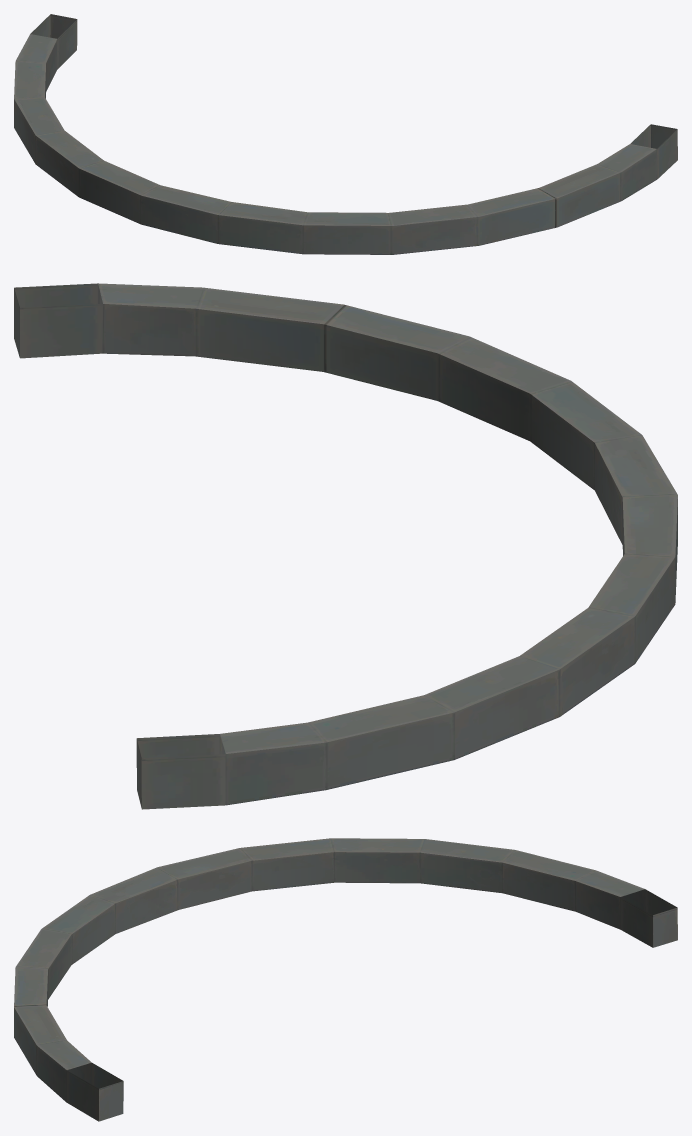
File: Indoor_Mdprops_Church_Squate05_Stairs01_Vo_1489_0.fbx
3 views of the same model, one above another, from view 1: azimuth 30°, elevation 25°; view 2: azimuth 150°, elevation 25°; view 3: azimuth 270°, elevation 25° (orthographic). The views are drawn at different scales.
Parts seen in each view (by area): view 1: Indoor_Mdprops_Church_Squate05_Stairs01_Vo_1489_0; view 2: Indoor_Mdprops_Church_Squate05_Stairs01_Vo_1489_0; view 3: Indoor_Mdprops_Church_Squate05_Stairs01_Vo_1489_0.
Part boxes in pixels (box(x1,y1,x2,y2)): Indoor_Mdprops_Church_Squate05_Stairs01_Vo_1489_0: box(14, 14, 677, 254); Indoor_Mdprops_Church_Squate05_Stairs01_Vo_1489_0: box(14, 283, 677, 809); Indoor_Mdprops_Church_Squate05_Stairs01_Vo_1489_0: box(14, 838, 677, 1121).
Bounding box in the file's own units: 2.73 × 0.1662 × 3.05.
